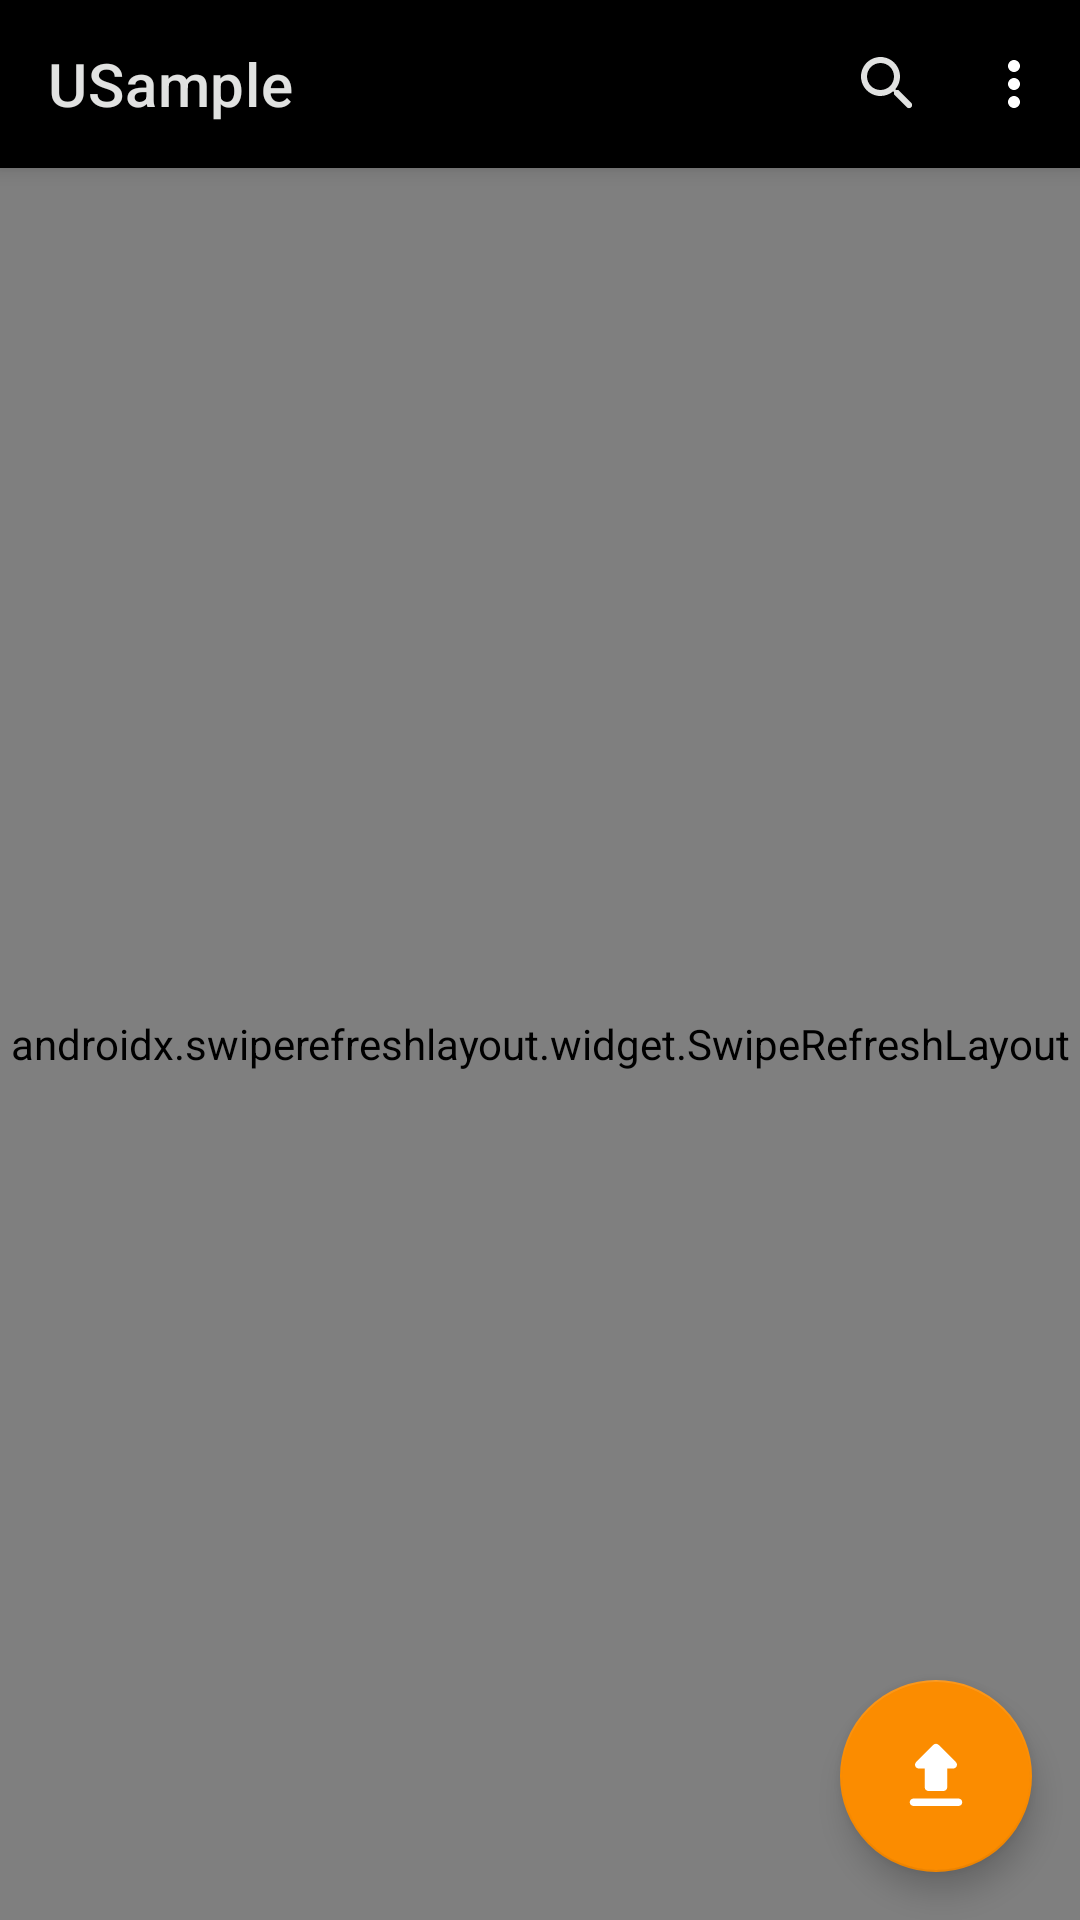

Named icons in this screenshot (1080w x 1920h) and their centers, point (x, y):
Upload sample: point (936, 1776)
